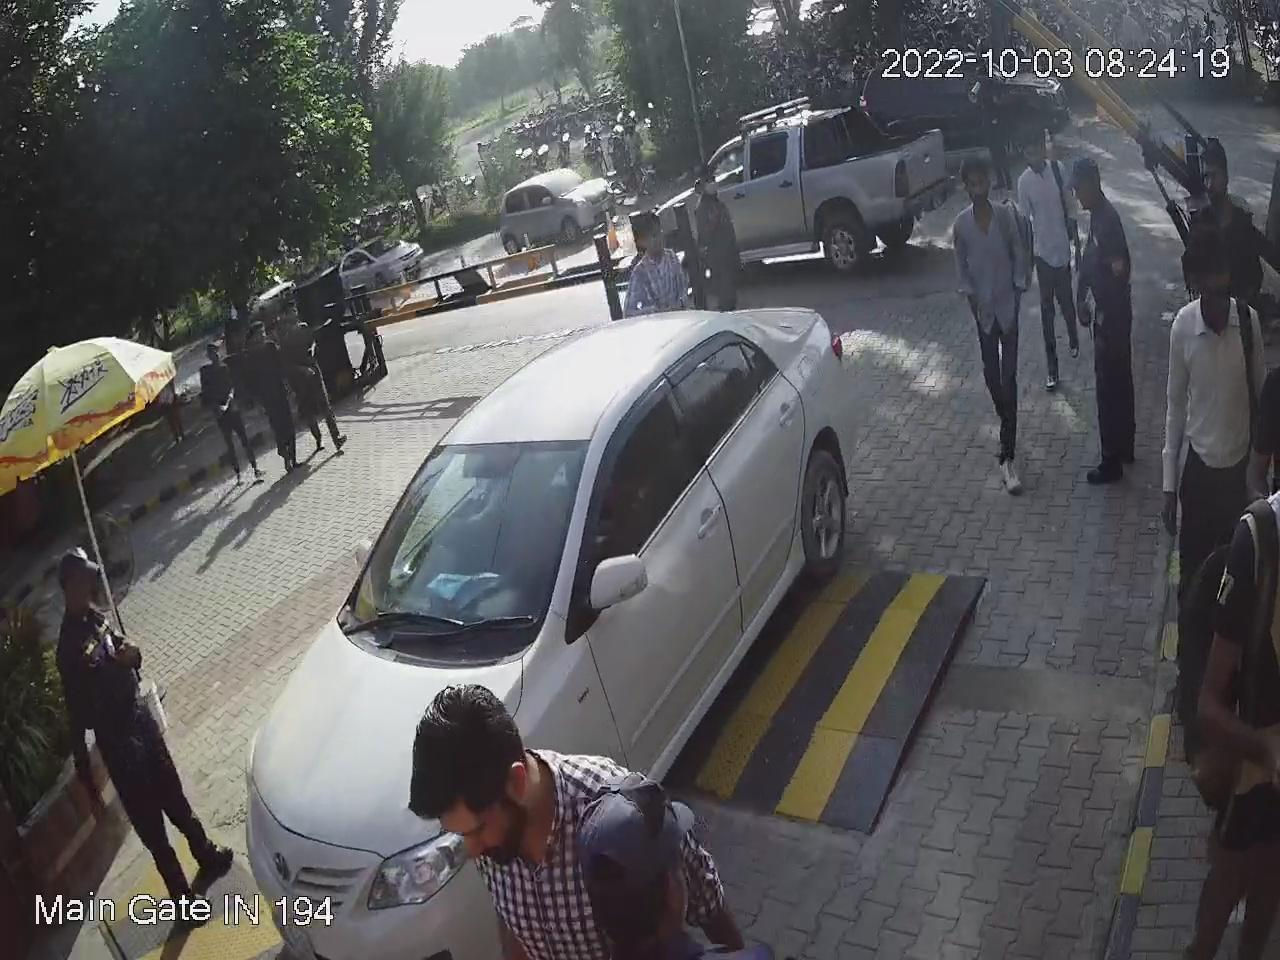windshield: (338, 430, 598, 657)
